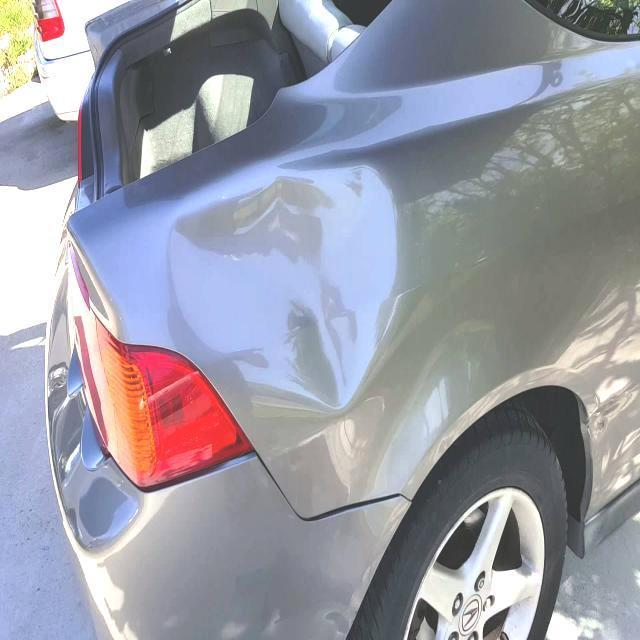minor: (158, 140, 432, 441)
